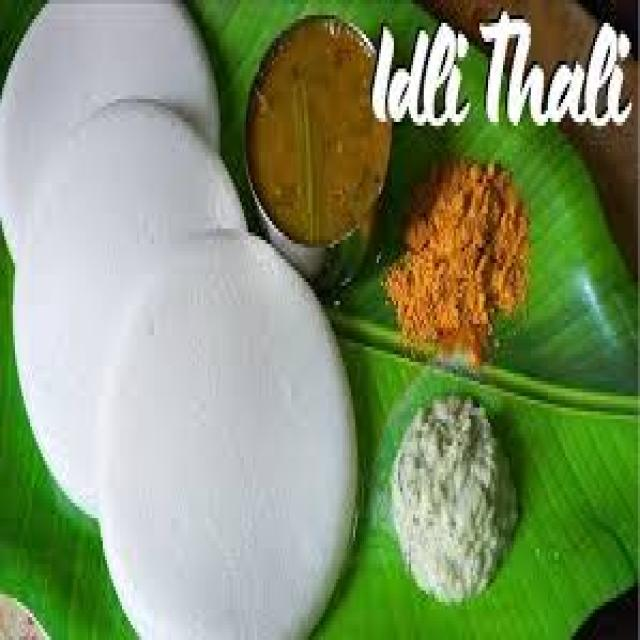IDLI: (99, 224, 356, 630), (11, 94, 245, 525), (2, 1, 220, 263)
